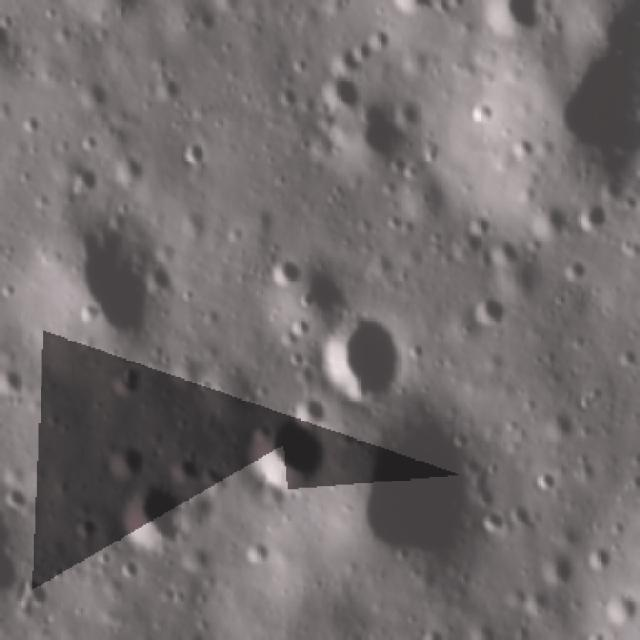crater: (318, 318, 409, 396), (247, 418, 316, 494), (115, 488, 178, 548), (320, 80, 362, 108), (102, 454, 142, 481), (21, 576, 50, 613), (199, 465, 227, 500), (151, 78, 187, 104), (76, 82, 112, 107), (362, 30, 396, 56), (578, 203, 605, 235), (606, 596, 634, 626), (72, 170, 96, 202), (475, 299, 502, 327), (4, 487, 30, 516), (114, 368, 138, 398), (504, 138, 536, 160), (68, 514, 95, 540), (182, 140, 207, 168), (475, 512, 508, 533), (270, 264, 298, 288), (561, 254, 585, 280), (112, 156, 134, 184), (471, 98, 492, 125), (533, 470, 558, 492), (76, 304, 102, 325), (247, 540, 268, 565), (591, 547, 611, 571), (18, 112, 40, 133), (115, 562, 138, 580), (82, 129, 98, 151)
